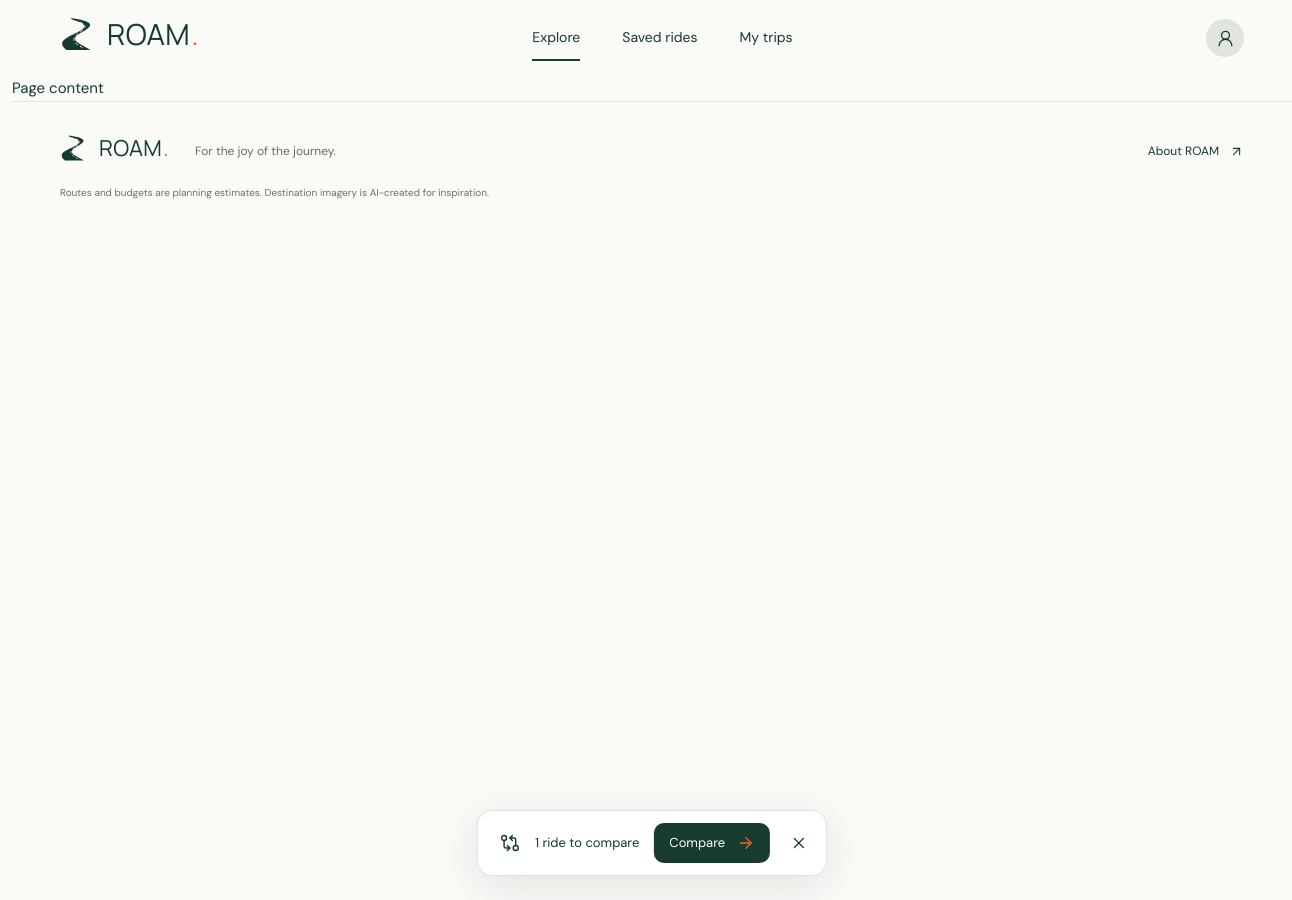
Test: app shell › clears the comparison from the shortcut
The width and height of the screenshot is (1292, 900).
Click the button named "Clear comparison" at point(799, 843), box [785,829,813,857]
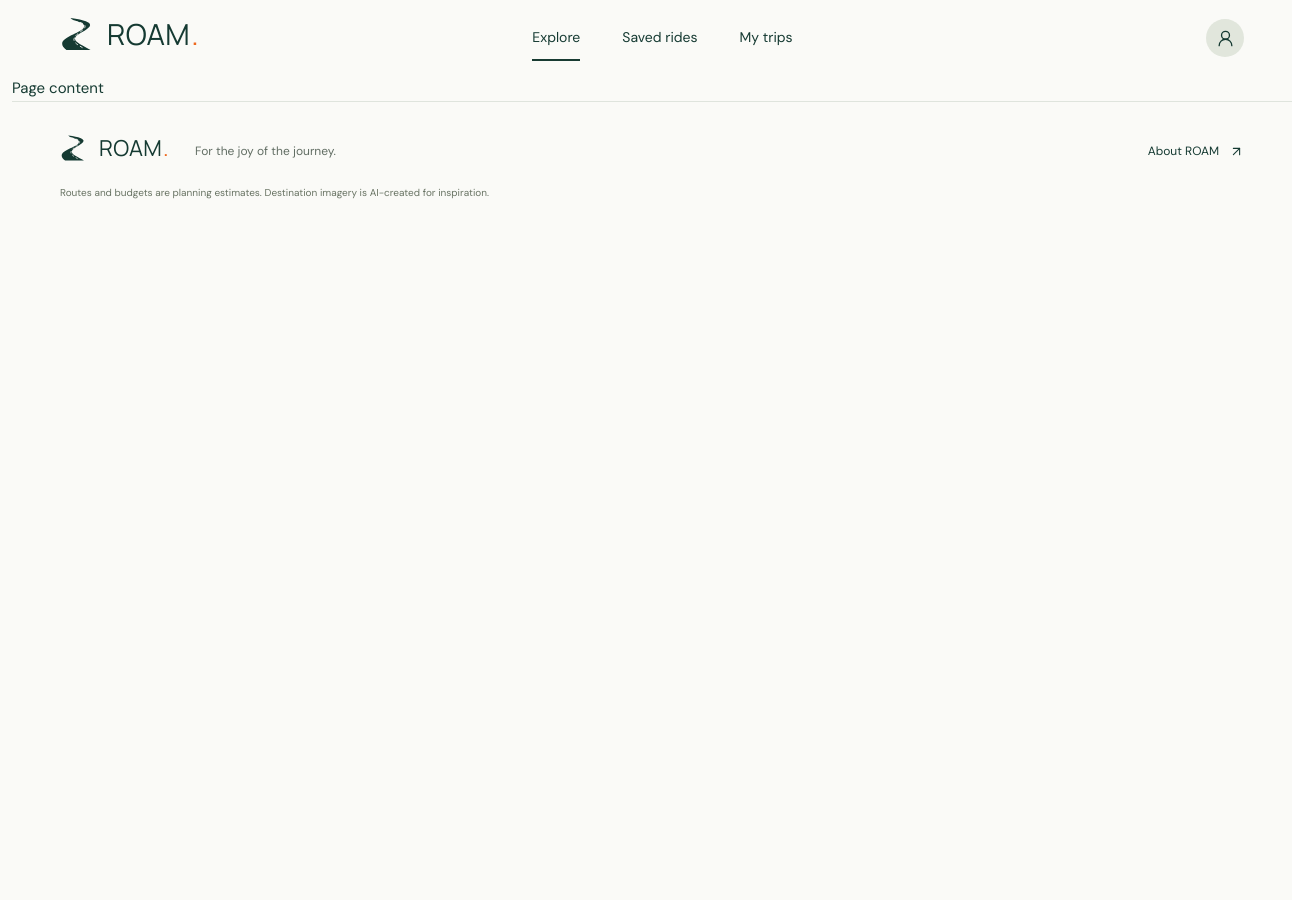
Expected: the text "to compare" is gone
